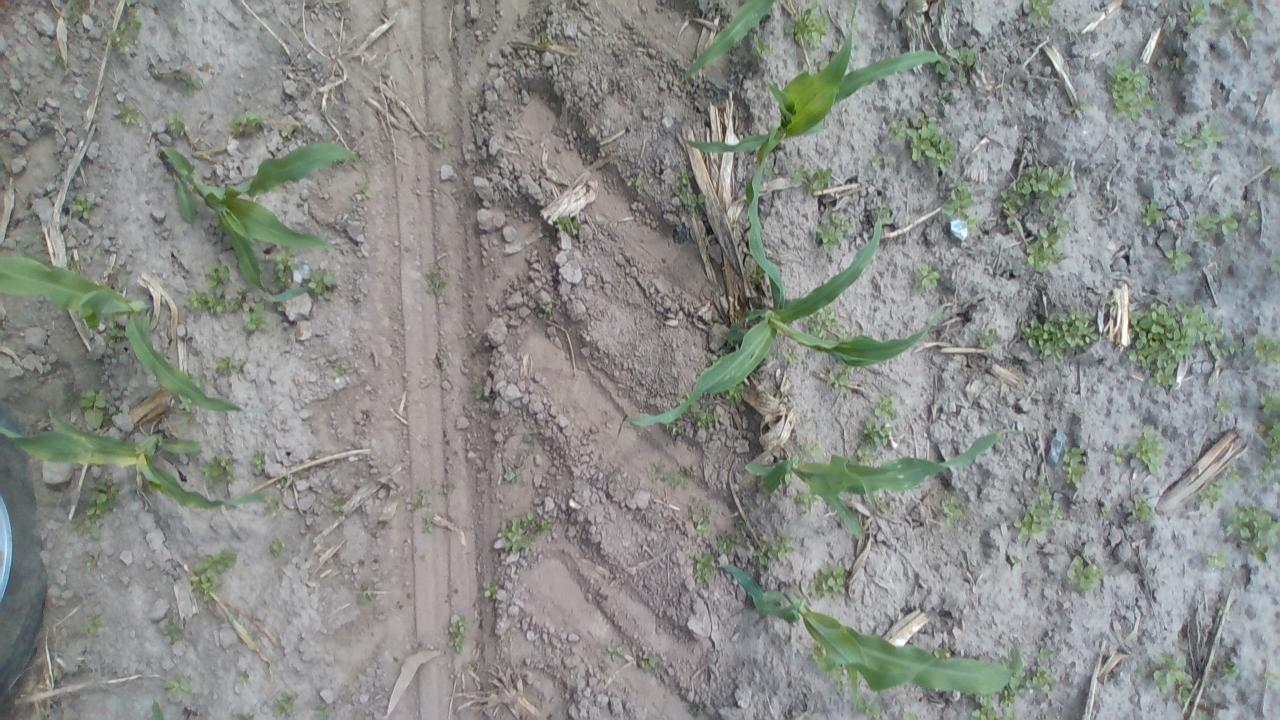Maize: (632, 146, 946, 430), (1, 247, 244, 413), (721, 564, 1022, 696), (686, 25, 948, 152), (156, 142, 357, 304), (745, 426, 1019, 539), (2, 412, 268, 507), (680, 1, 775, 79), (146, 698, 163, 720)
Weeds: (1130, 302, 1222, 390), (1103, 58, 1158, 120), (1226, 500, 1280, 562), (1022, 209, 1070, 270), (1042, 312, 1100, 354), (1014, 162, 1076, 197), (782, 7, 828, 46), (1208, 463, 1264, 494), (911, 122, 954, 160), (791, 162, 834, 196), (808, 560, 844, 600), (1126, 432, 1160, 474), (99, 15, 140, 47), (1150, 648, 1186, 684), (1226, 1, 1256, 44), (941, 185, 977, 219), (1263, 423, 1280, 494), (78, 389, 109, 427), (88, 480, 118, 515), (860, 418, 894, 448), (1070, 557, 1100, 590), (198, 456, 236, 482), (194, 548, 234, 572), (1027, 490, 1063, 516), (162, 670, 191, 700), (1065, 447, 1088, 483), (650, 463, 685, 486), (188, 570, 218, 596), (677, 176, 703, 206), (228, 111, 261, 134), (995, 186, 1024, 212), (272, 252, 303, 276), (68, 193, 95, 219), (1198, 124, 1229, 146), (1202, 212, 1236, 232), (1254, 332, 1278, 360), (160, 613, 183, 642), (506, 518, 528, 548), (1179, 0, 1207, 23), (241, 304, 266, 329), (76, 514, 100, 540), (309, 271, 335, 295), (1022, 316, 1042, 346), (1200, 548, 1230, 568), (918, 264, 942, 289), (815, 313, 840, 335), (1132, 498, 1154, 522), (1258, 395, 1276, 424), (1220, 329, 1240, 355), (81, 616, 104, 638), (175, 70, 202, 88), (163, 114, 185, 136), (820, 220, 841, 243), (204, 291, 225, 314), (1014, 515, 1042, 532), (114, 106, 140, 124), (874, 397, 900, 415), (449, 621, 464, 652), (1028, 0, 1049, 22), (526, 514, 550, 533), (273, 694, 295, 714), (950, 44, 973, 63), (827, 366, 845, 389), (770, 540, 794, 557), (1032, 668, 1054, 686), (208, 266, 230, 284), (886, 121, 908, 139), (1168, 250, 1190, 268), (860, 694, 879, 714), (942, 496, 960, 517), (978, 698, 997, 717), (1218, 662, 1238, 680), (1174, 684, 1194, 702), (751, 34, 769, 54), (250, 450, 264, 475), (1107, 444, 1126, 462), (694, 406, 715, 422), (716, 530, 734, 548), (428, 269, 442, 292), (1175, 132, 1198, 146), (752, 546, 769, 564), (695, 552, 712, 570), (105, 321, 122, 339), (79, 551, 98, 567), (1216, 396, 1232, 415), (1142, 205, 1158, 224), (976, 328, 992, 346), (1200, 487, 1216, 505), (1033, 645, 1053, 659), (358, 584, 373, 602), (482, 582, 498, 598), (277, 124, 295, 138), (314, 704, 329, 720), (190, 291, 204, 308), (636, 655, 654, 668), (216, 356, 228, 375), (799, 491, 814, 506), (693, 511, 707, 527), (226, 296, 240, 312), (786, 348, 799, 364), (608, 642, 624, 655), (502, 468, 516, 482), (330, 493, 342, 509), (694, 569, 707, 583), (334, 365, 346, 379), (471, 384, 483, 398), (554, 215, 568, 226), (270, 540, 280, 554)
